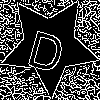D: (24, 20, 70, 74)
